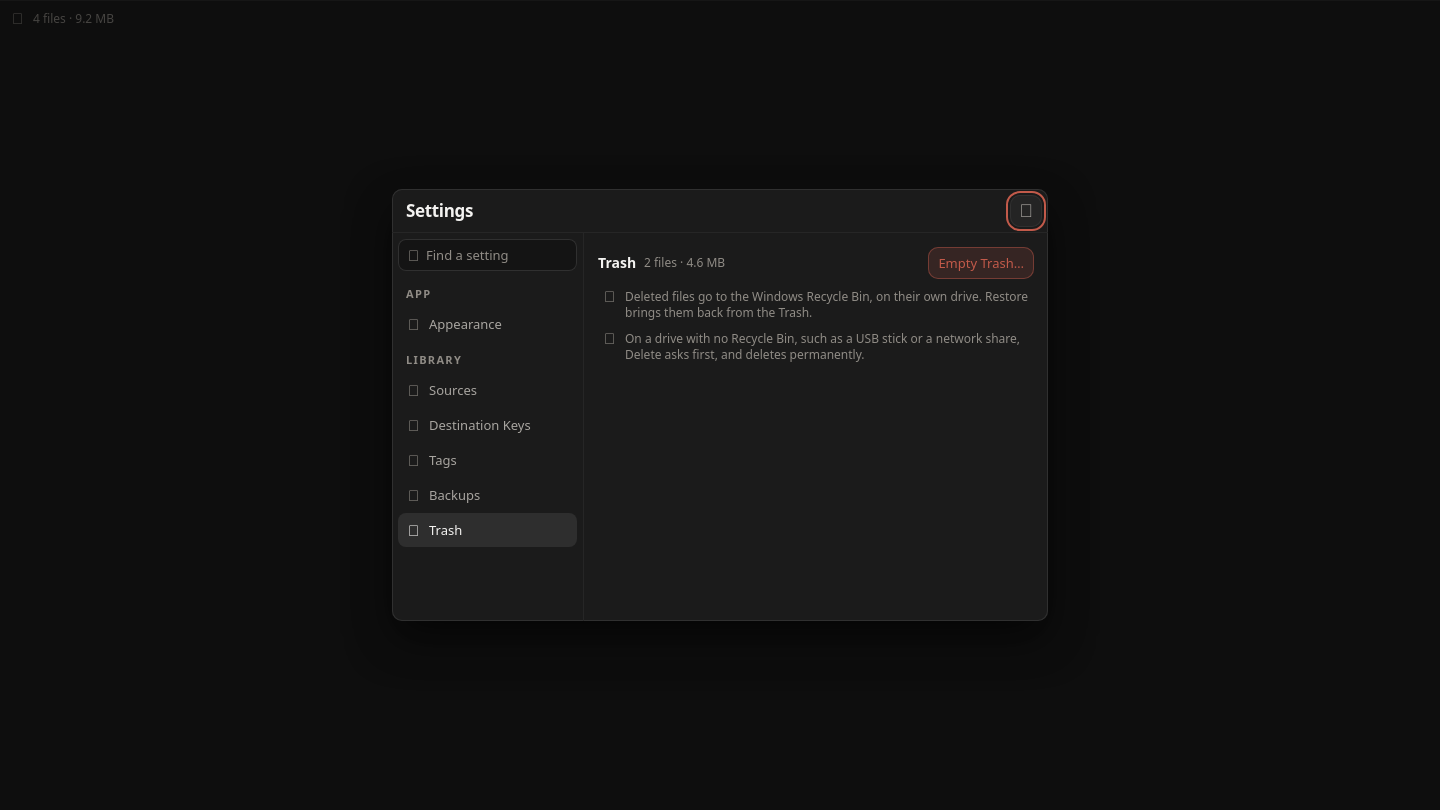
Test: emptying counts as it goes, the foot says it is done, and Ctrl+Z passes over what went
Click the button "Empty Trash…" at (981, 263), box left=928, top=247, right=1034, bottom=279
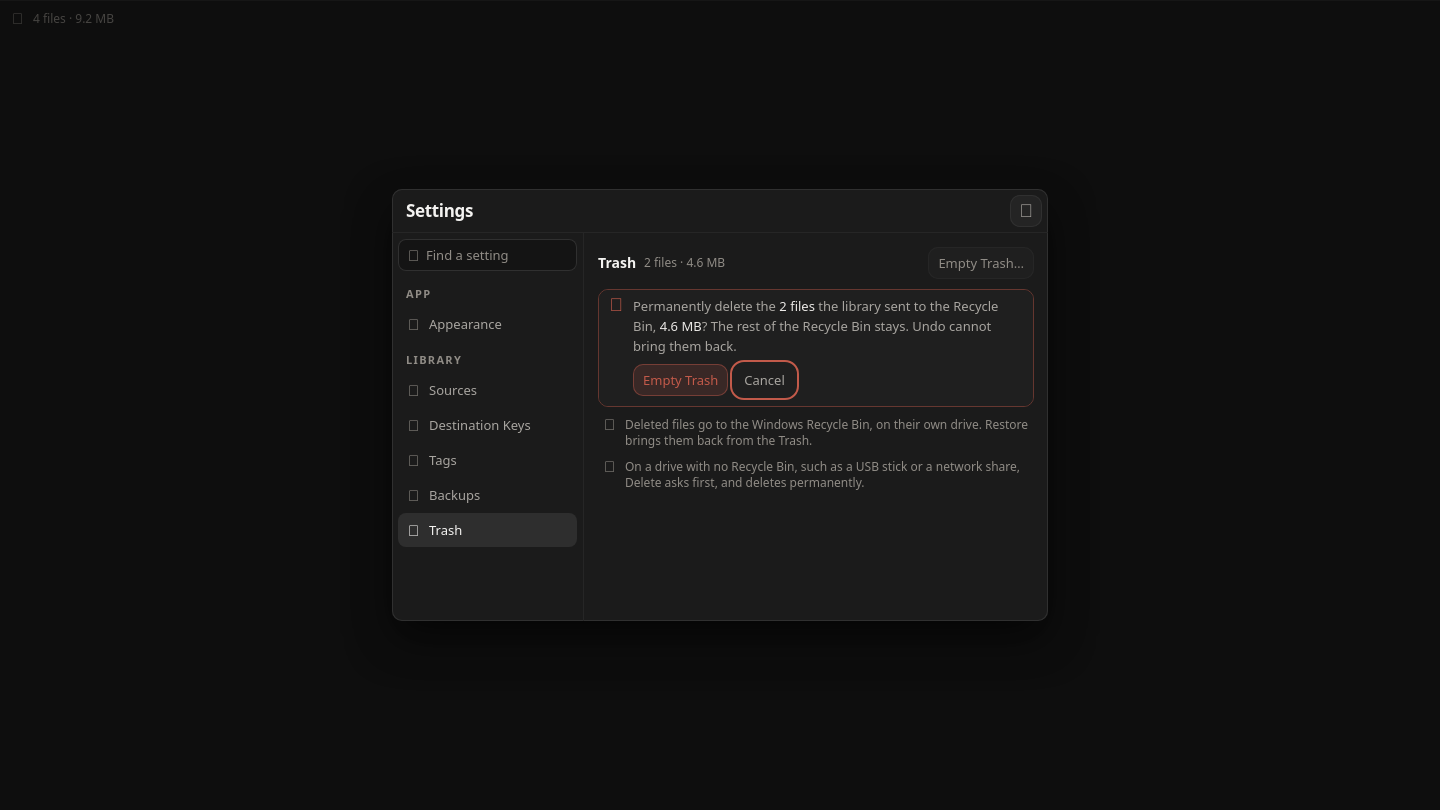
Click the button "Empty Trash" at (681, 380), box left=633, top=364, right=728, bottom=396
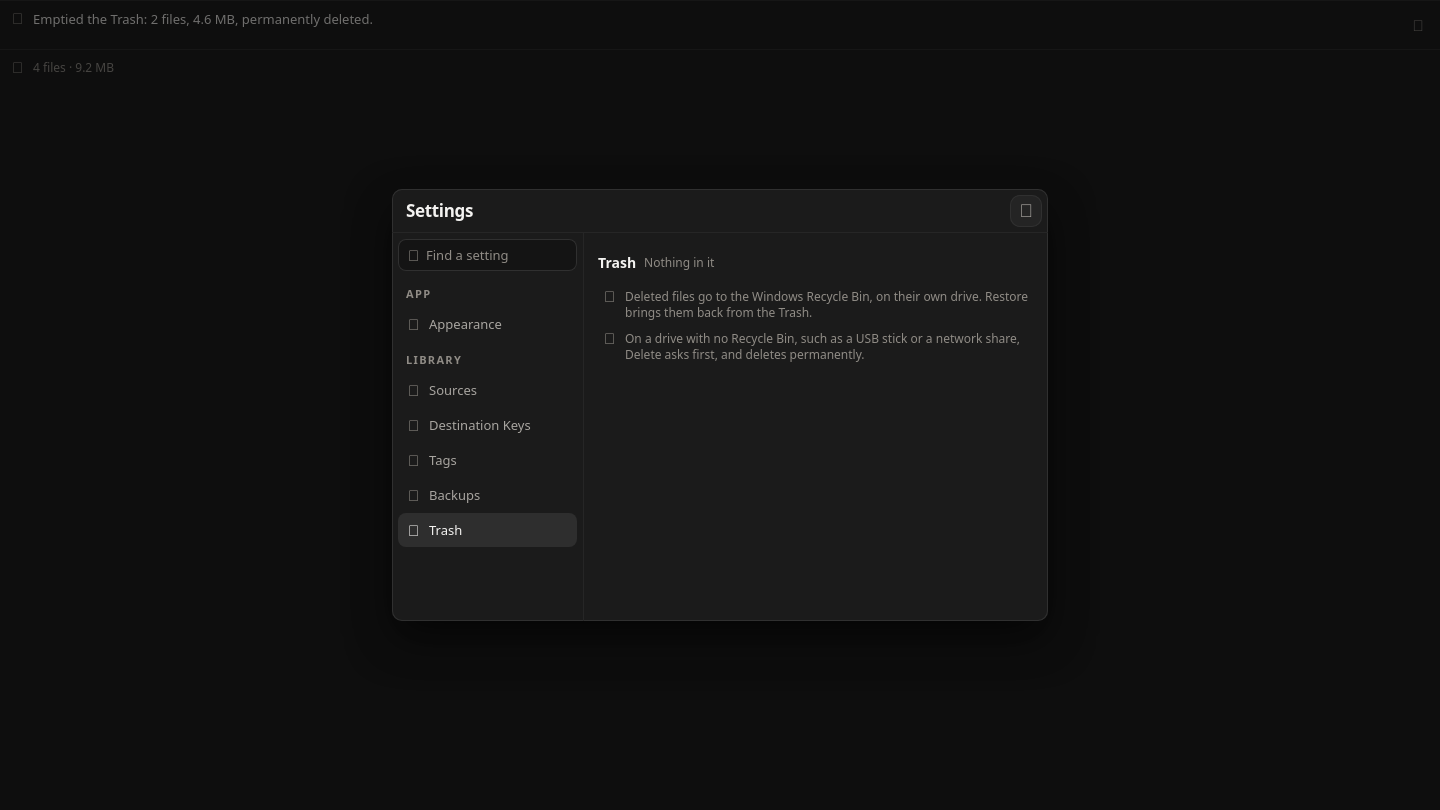
Now the text "Nothing in it" is shown, box left=644, top=254, right=714, bottom=271
